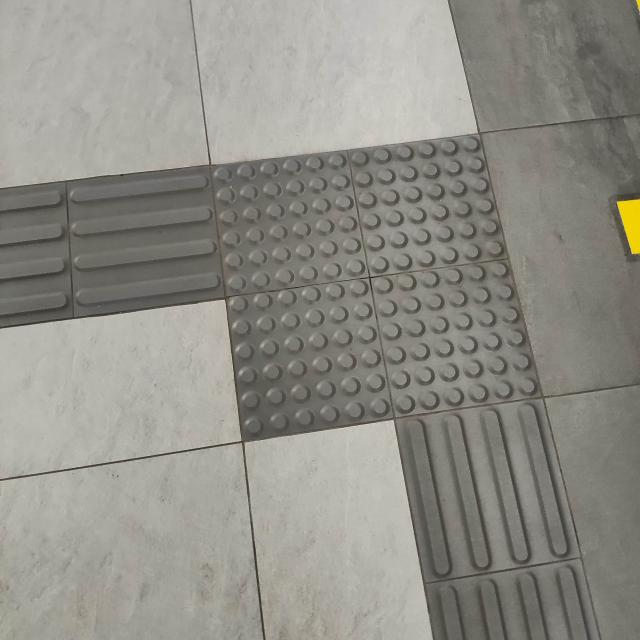kiri: (0, 92, 624, 566)
